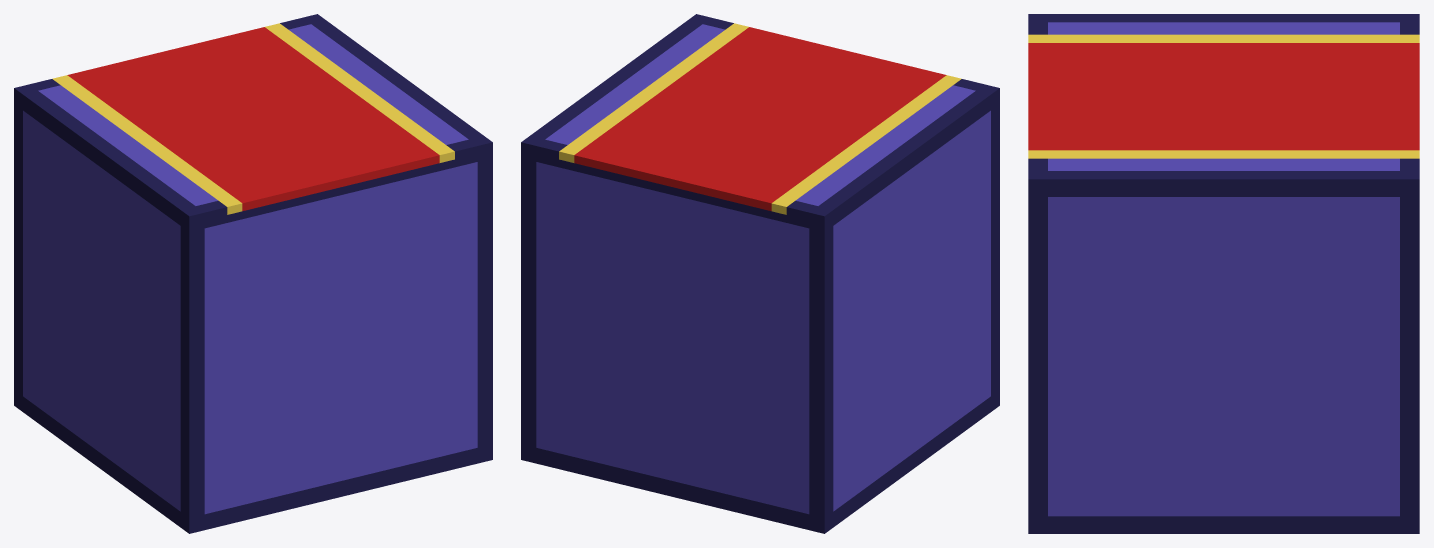
The model's file is floorCarpetFill.obj.
3 views of the same model, side by side, from view 1: azimuth 30°, elevation 25°; view 2: azimuth 150°, elevation 25°; view 3: azimuth 270°, elevation 25° (orthographic). The views are drawn at different scales.
Bounding box in the file's own units: 4 × 4 × 4.
1 material, 1 textured.
